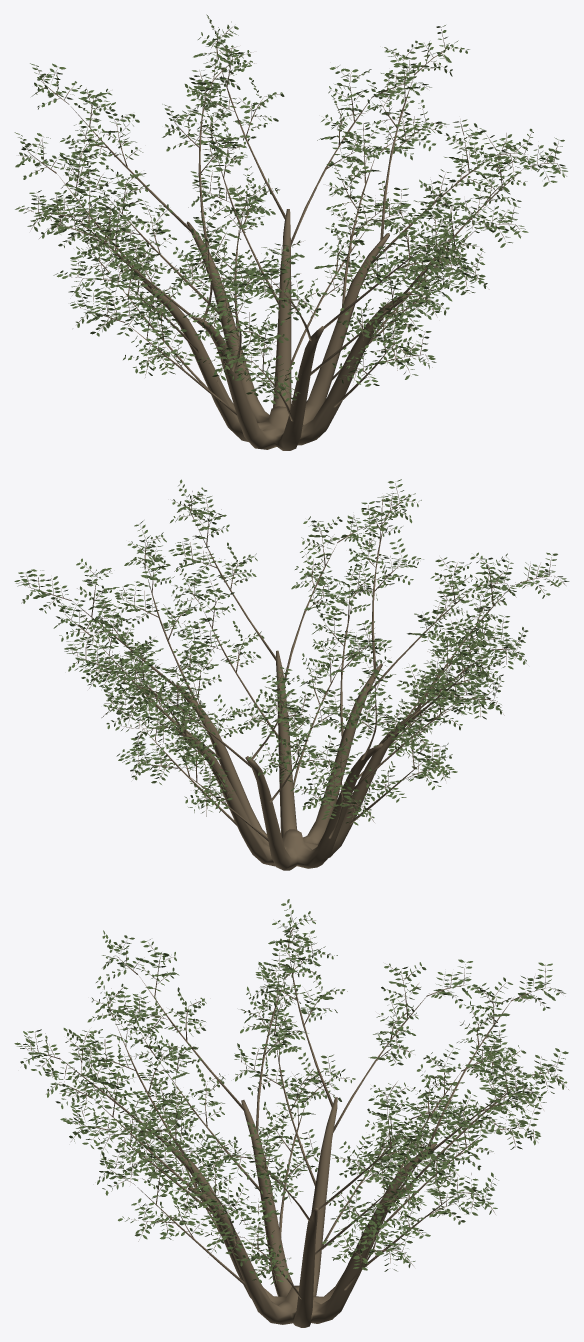
The model's file is Lentisque_1_Niveau0.fbx.
3 renders of one model, top to bottom at view 1: azimuth 30°, elevation 25°; view 2: azimuth 150°, elevation 25°; view 3: azimuth 270°, elevation 25°, orthographic. The views are drawn at different scales.
Parts seen in each view (by area): view 1: Lentisque_1_Niveau0_Jeu; view 2: Lentisque_1_Niveau0_Jeu; view 3: Lentisque_1_Niveau0_Jeu.
Boxes of the visible parts, x1,y1,x2,y2 form: Lentisque_1_Niveau0_Jeu: (14, 14, 567, 450); Lentisque_1_Niveau0_Jeu: (14, 479, 569, 870); Lentisque_1_Niveau0_Jeu: (14, 899, 568, 1327).
Size of the model in its own units: 263 by 160 by 259.
